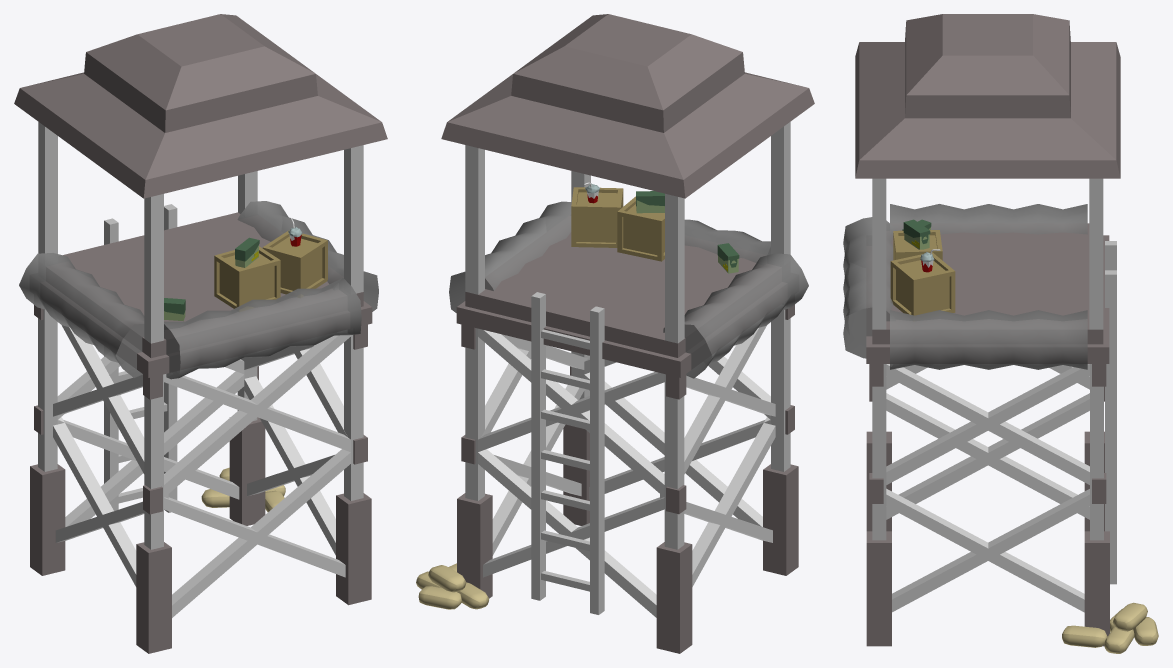
File: Prop_GuardTower_Mod_02.fbx
3 renders of one model, left to right at view 1: azimuth 30°, elevation 25°; view 2: azimuth 150°, elevation 25°; view 3: azimuth 270°, elevation 25°, orthographic. The views are drawn at different scales.
Parts seen in each view (by area): view 1: GuardTower, Crate1, Crate, SandBags, AmmoBox4; view 2: GuardTower, Crate, Crate1, SandBags, AmmoBox4; view 3: GuardTower, Crate, SandBags, Crate1, AmmoBox4.
Boxes of the visible parts, x1,y1,x2,y2 form: GuardTower: (14, 14, 387, 653); Crate1: (214, 246, 280, 311); Crate: (262, 230, 327, 297); SandBags: (201, 467, 285, 512); AmmoBox4: (235, 237, 259, 267); GuardTower: (441, 14, 814, 653); Crate: (571, 187, 623, 247); Crate1: (617, 196, 664, 261); SandBags: (416, 563, 488, 609); AmmoBox4: (636, 191, 664, 213); GuardTower: (843, 14, 1120, 646); Crate: (890, 252, 955, 315); SandBags: (1062, 602, 1158, 653); Crate1: (893, 230, 942, 260); AmmoBox4: (903, 219, 930, 249).
Bounding box in the file's own units: 16.09 × 29.9 × 15.38.
